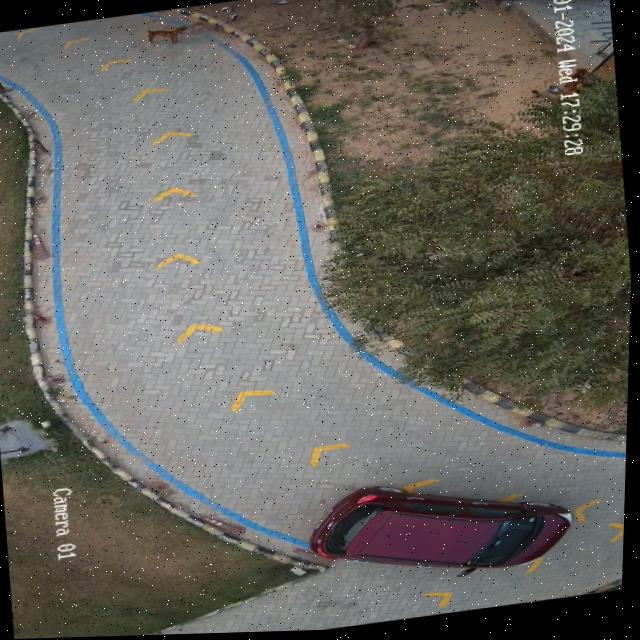car: (313, 488, 572, 579)
